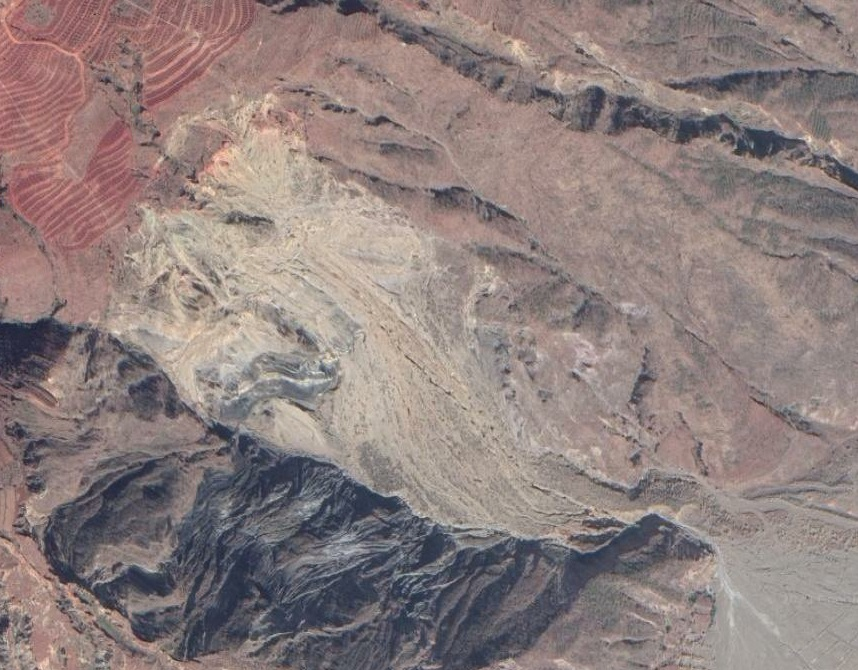slope: (105, 91, 623, 542)
